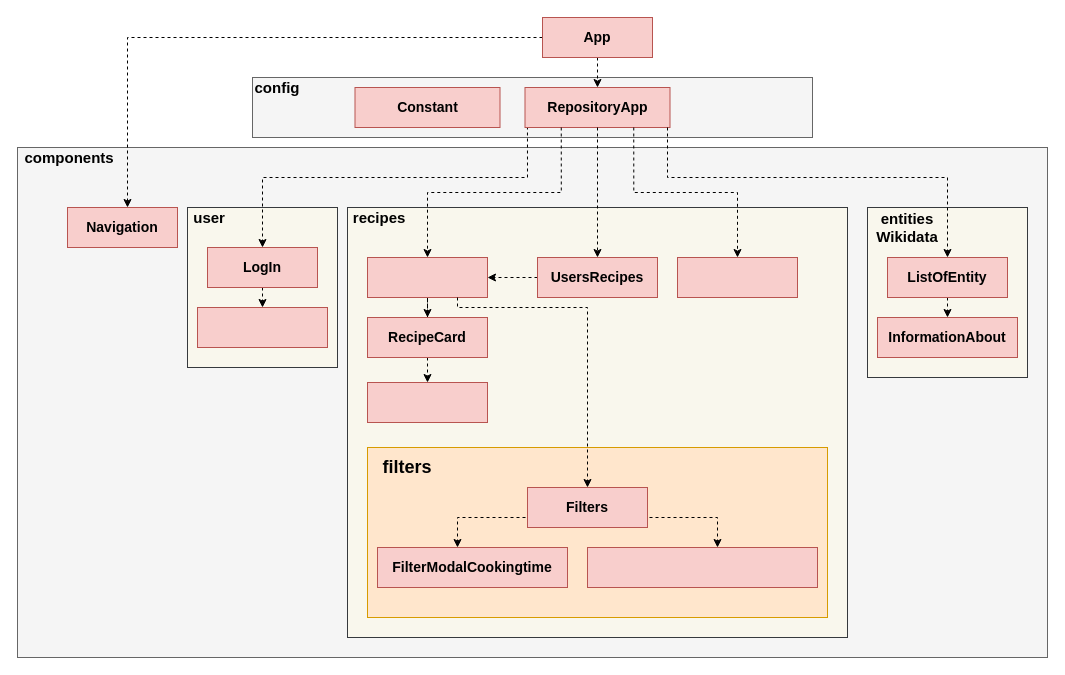
The diagram is 1065 pixels wide and 675 high, and some of its shapes have lost their labels. Each missing label, with the centre of its shape:
"CreateRecipe" belongs at point (737, 277).
"FilterModalIncludedExcluded" belongs at point (702, 567).
"ListRecipes" belongs at point (427, 277).
"Recipe" belongs at point (427, 402).
"RegisterModal" belongs at point (262, 327).
